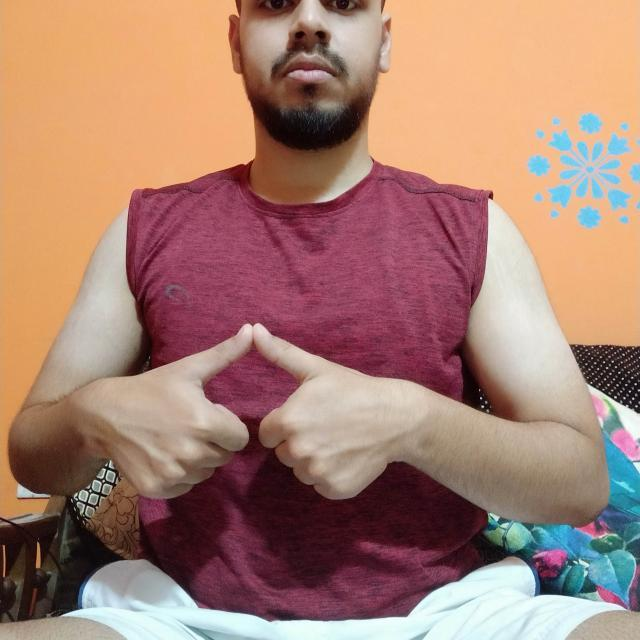A: (96, 310, 440, 510)
